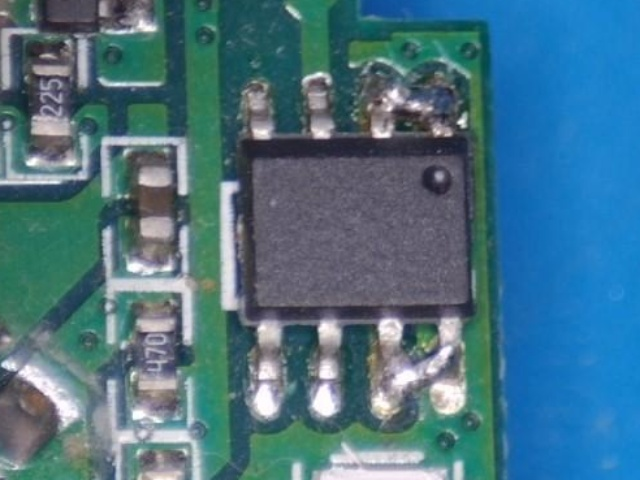pcb_defect: (377, 317, 466, 414), (365, 74, 455, 139)
